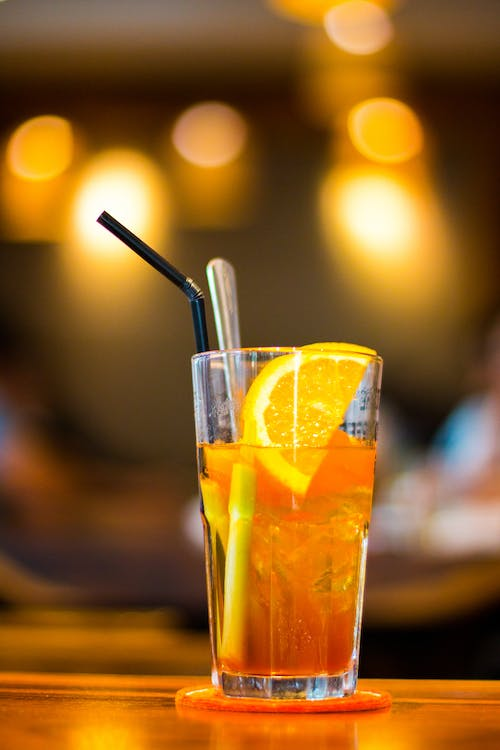alcohol: (189, 345, 387, 702)
